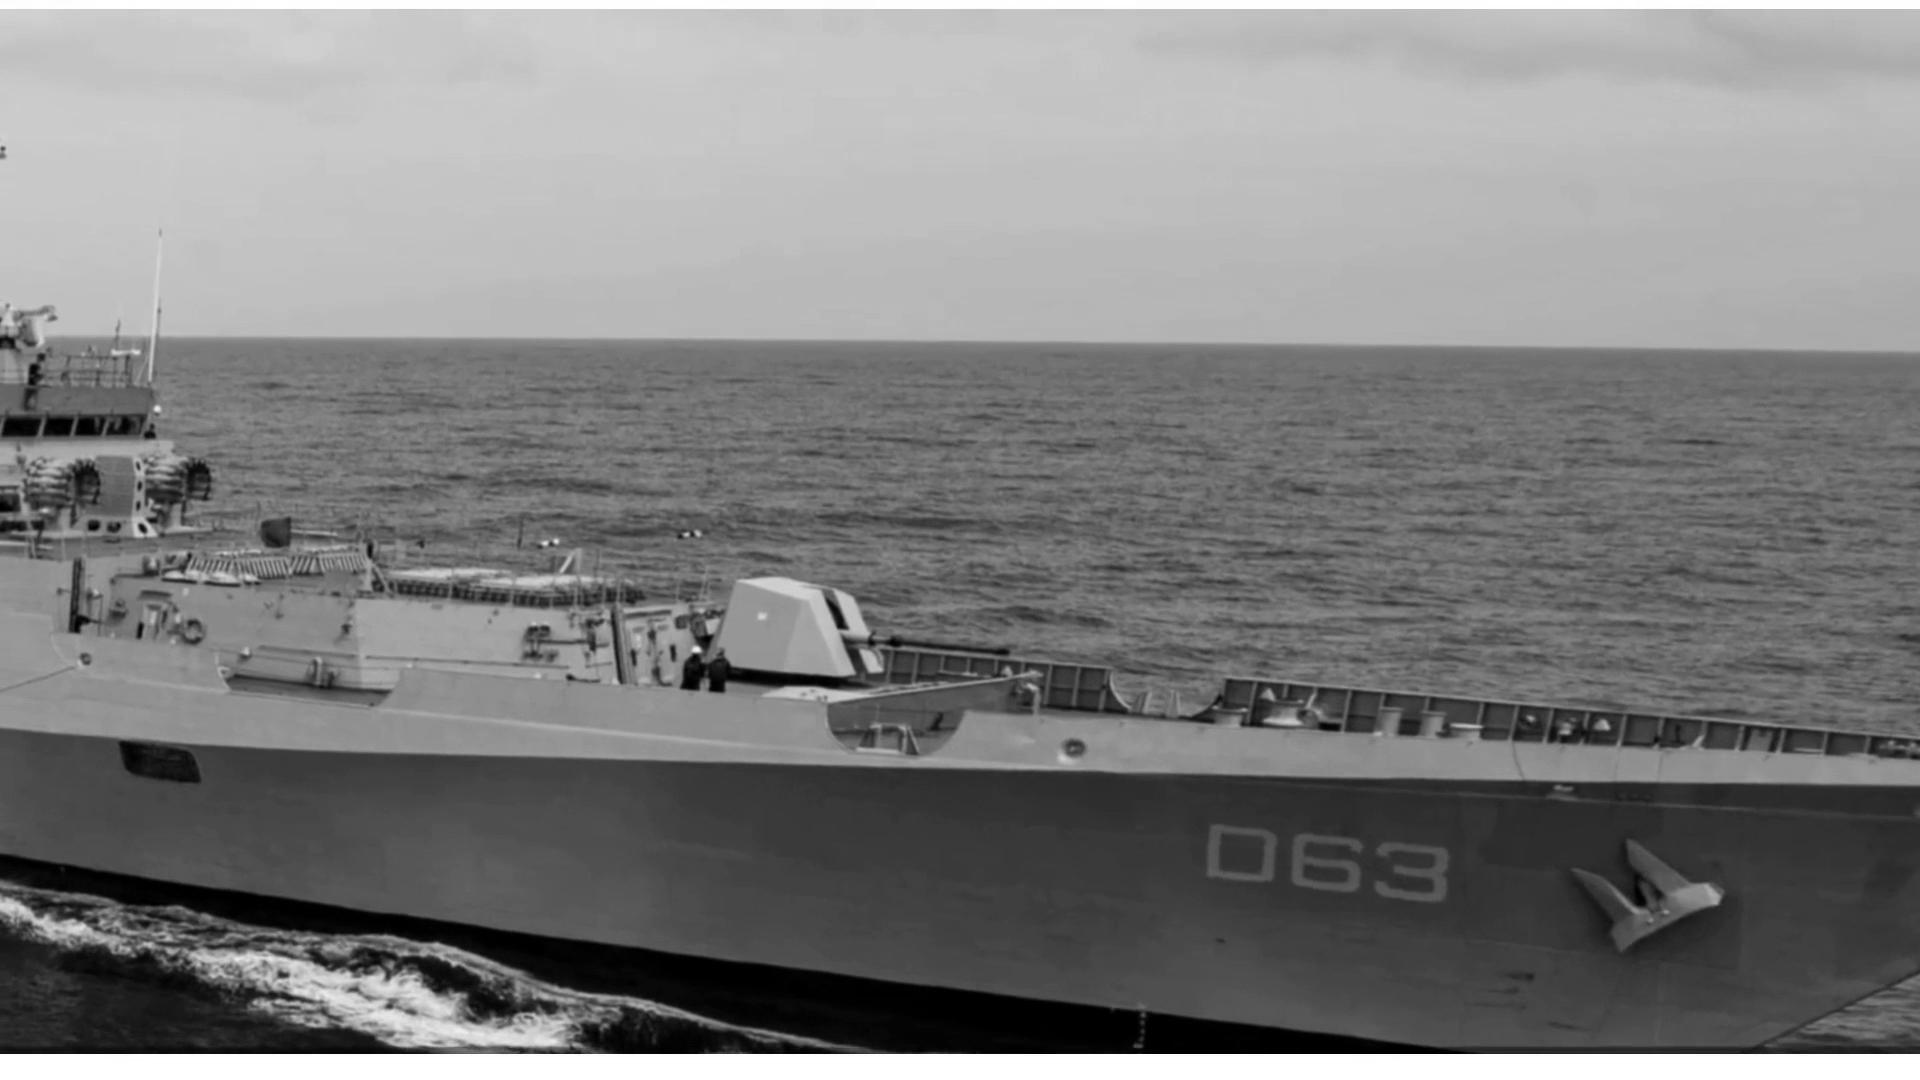OCR: (1202, 810, 1458, 912)
